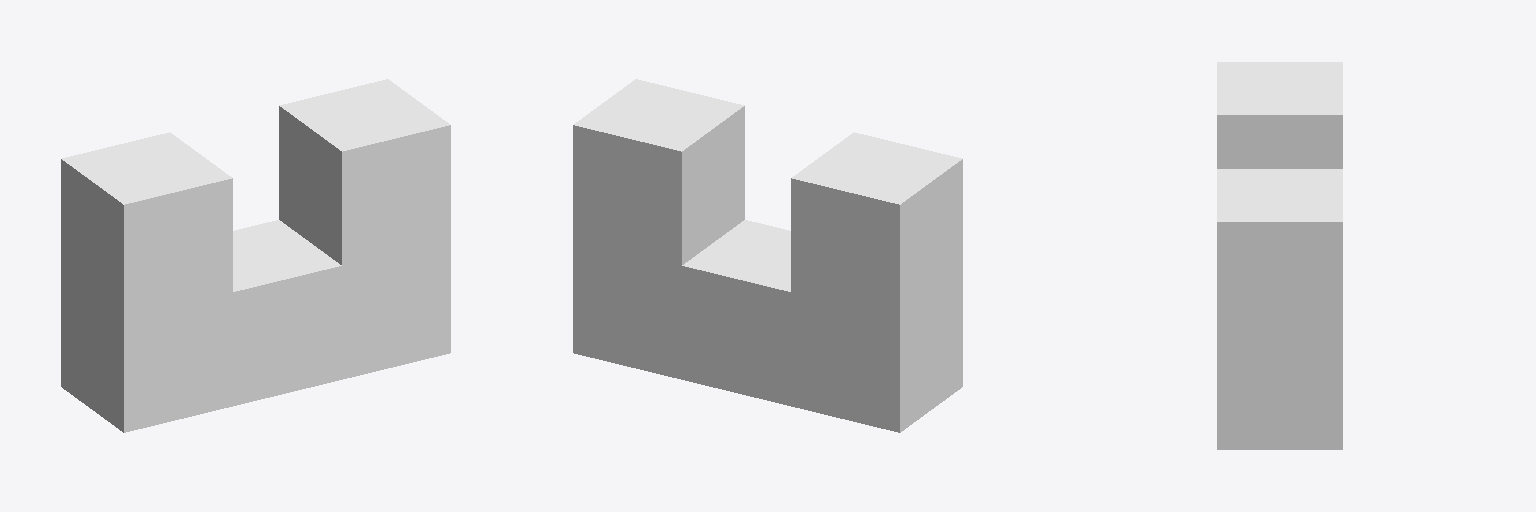
The model's file is face-10-Reye.obj.
3 views of the same model, side by side, from view 1: azimuth 30°, elevation 25°; view 2: azimuth 150°, elevation 25°; view 3: azimuth 270°, elevation 25° (orthographic).
Parts seen in each view (by area): view 1: Reye; view 2: Reye; view 3: Reye.
Part boxes in pixels (x1,y1,x2,y2): Reye: (61,79,450,432); Reye: (573,79,962,432); Reye: (1217,62,1342,449).
Size of the model in its own units: 0.3 by 0.2 by 0.1.